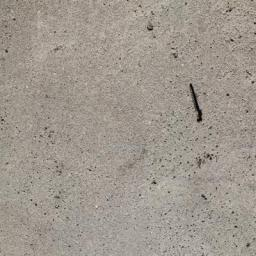FOD: (185, 82, 209, 125)
